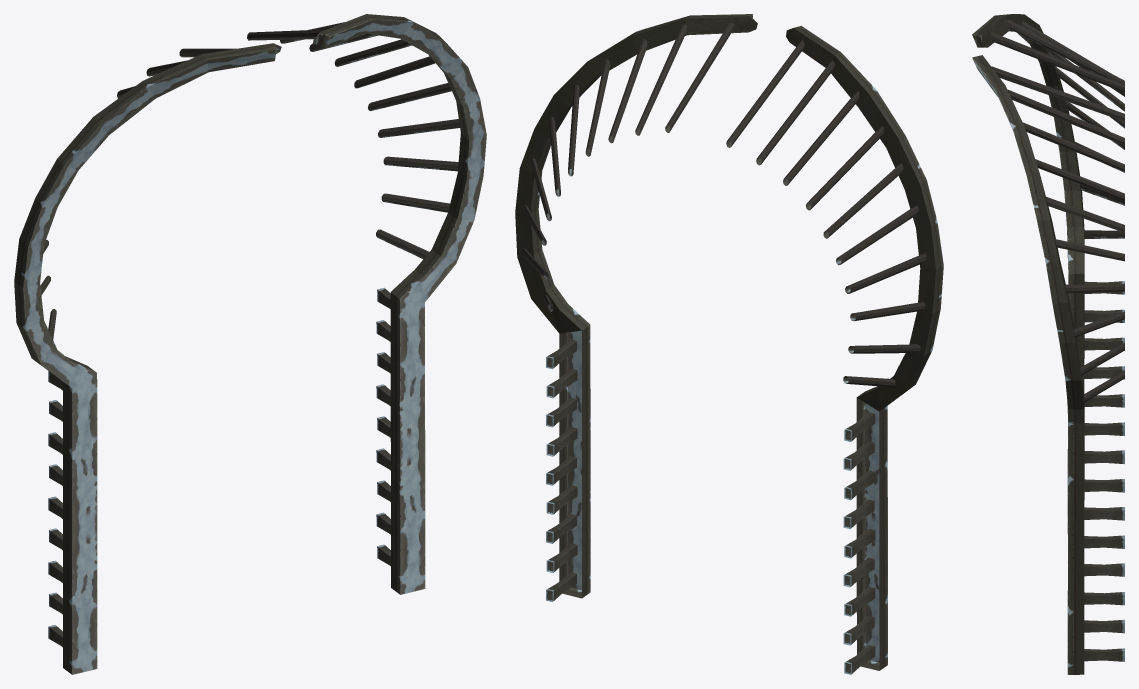
The model's file is huodong_fuben_421_jitan_02.obj.
3 renders of one model, left to right at view 1: azimuth 30°, elevation 25°; view 2: azimuth 150°, elevation 25°; view 3: azimuth 270°, elevation 25°, orthographic. The views are drawn at different scales.
Visible parts, largest first — view 1: huodong_fuben_421_jitan_02; view 2: huodong_fuben_421_jitan_02; view 3: huodong_fuben_421_jitan_02.
Part boxes in pixels (x1,y1,x2,y2): huodong_fuben_421_jitan_02: (14, 14, 486, 674); huodong_fuben_421_jitan_02: (515, 14, 943, 674); huodong_fuben_421_jitan_02: (972, 14, 1124, 674).
Bounding box in the file's own units: 8975 × 11737 × 2935.
Materials: 3 (3 with a texture image).
